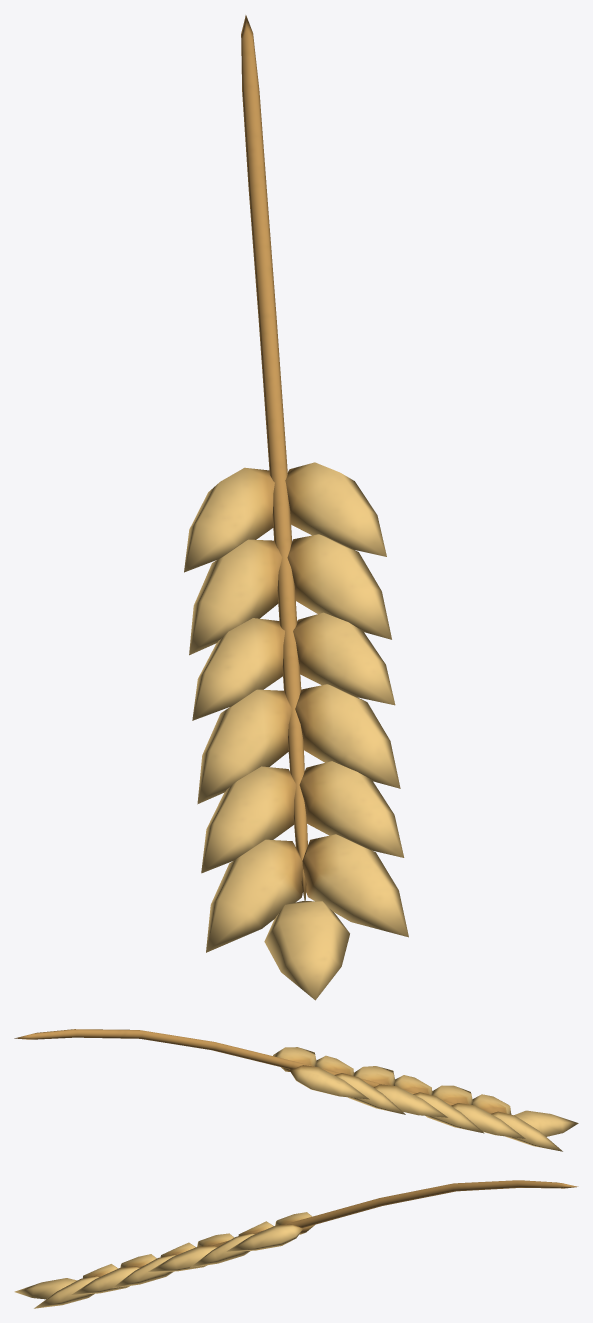
File: 12-Wheat-13207311986.glb
3 views of the same model, one above another, from view 1: azimuth 30°, elevation 25°; view 2: azimuth 150°, elevation 25°; view 3: azimuth 270°, elevation 25° (orthographic). The views are drawn at different scales.
Visible parts, largest first — view 1: 12-Wheat-13207311986; view 2: 12-Wheat-13207311986; view 3: 12-Wheat-13207311986.
Part boxes in pixels (x1,y1,x2,y2): 12-Wheat-13207311986: [184, 15, 408, 1000]; 12-Wheat-13207311986: [14, 1029, 578, 1151]; 12-Wheat-13207311986: [14, 1180, 578, 1308].
Size of the model in its own units: 0.2826 by 0.2285 by 0.5161.
Materials: 1 (1 with a texture image).
